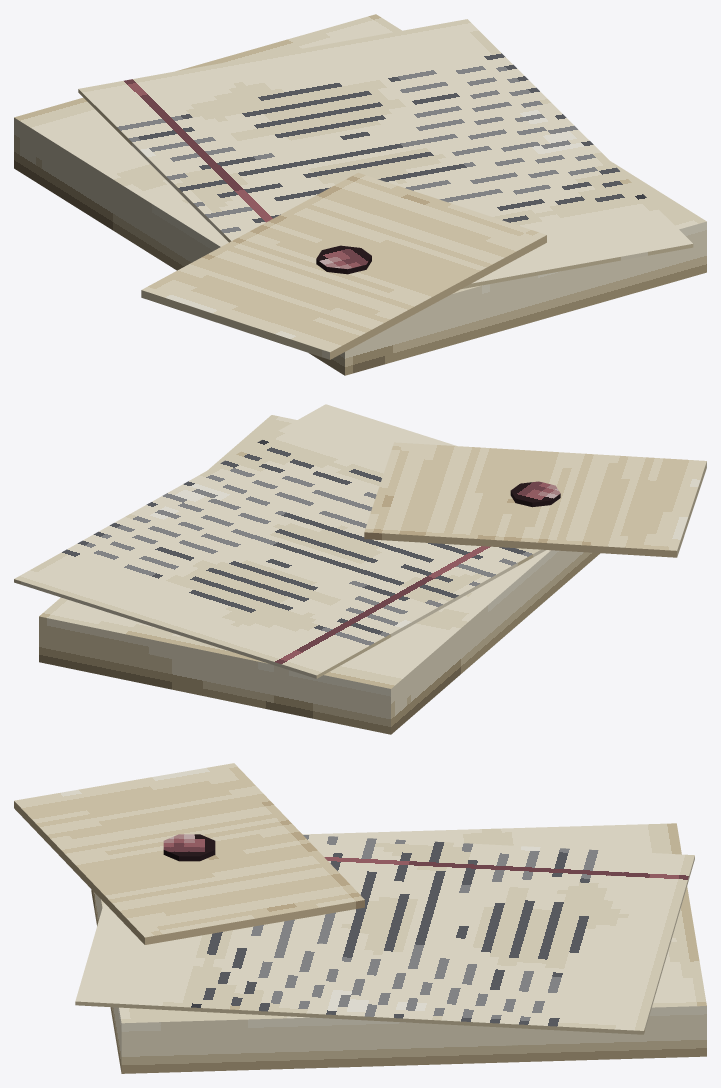
Rendered from papers.glb.
3 renders of one model, top to bottom at view 1: azimuth 30°, elevation 25°; view 2: azimuth 150°, elevation 25°; view 3: azimuth 270°, elevation 25°, orthographic. The views are drawn at different scales.
Visible parts, largest first — view 1: sheet, env, stack, seal; view 2: sheet, stack, env, seal; view 3: sheet, stack, env, seal.
Boxes of the visible parts, bbox=[...] form: sheet: bbox=[78, 19, 693, 289]; env: bbox=[141, 172, 546, 359]; stack: bbox=[14, 14, 706, 375]; seal: bbox=[316, 245, 371, 274]; sheet: bbox=[14, 404, 545, 678]; stack: bbox=[39, 415, 599, 734]; env: bbox=[364, 442, 706, 557]; seal: bbox=[510, 481, 560, 507]; sheet: bbox=[75, 835, 694, 1034]; stack: bbox=[91, 823, 706, 1073]; env: bbox=[14, 763, 364, 944]; seal: bbox=[163, 834, 215, 861].
Bounding box in the file's own units: 0.8732 × 0.11 × 0.9919.
Materials: 1 (1 with a texture image).
